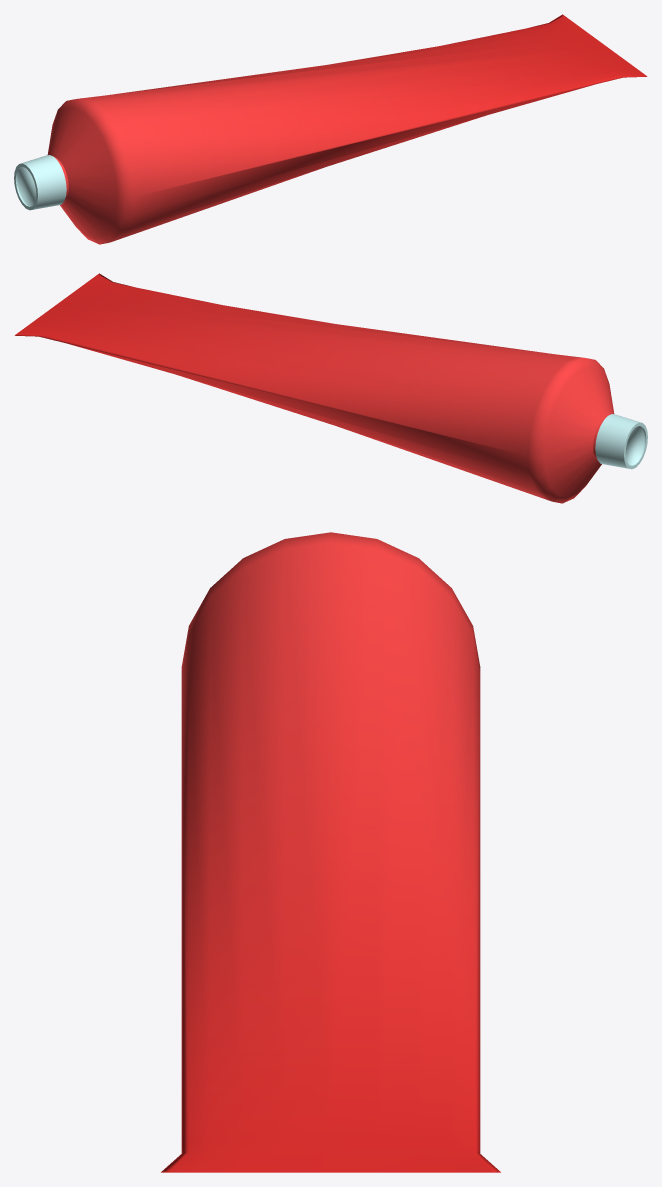
The model's file is toothpaste_red.fbx.
The picture shows the model from 3 angles, top to bottom: view 1: azimuth 30°, elevation 25°; view 2: azimuth 150°, elevation 25°; view 3: azimuth 270°, elevation 25°; orthographic projection. The views are drawn at different scales.
Parts seen in each view (by area): view 1: toothpaste_red; view 2: toothpaste_red; view 3: toothpaste_red.
Part boxes in pixels (x1,y1,x2,y2): toothpaste_red: (14, 14, 647, 244); toothpaste_red: (14, 273, 647, 503); toothpaste_red: (161, 532, 500, 1172).
Bounding box in the file's own units: 221 × 49.33 × 56.31.
